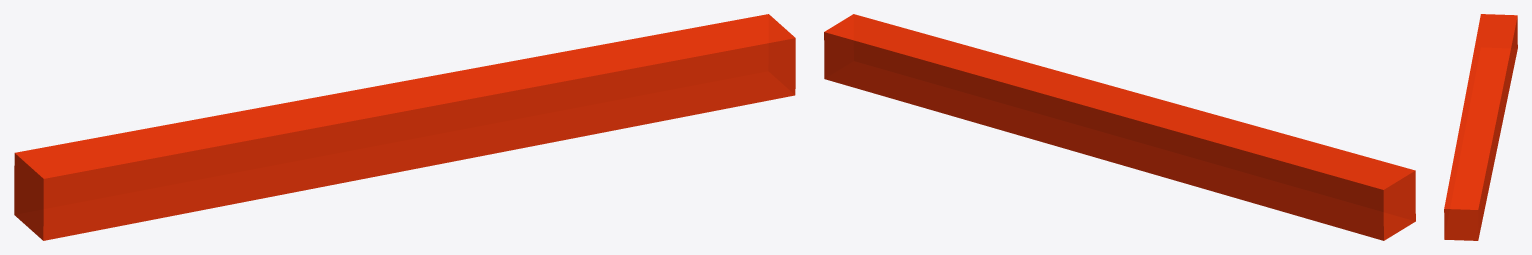
File: Event_421556567_EErechit_39.fbx
The picture shows the model from 3 angles, left to right: view 1: azimuth 30°, elevation 25°; view 2: azimuth 150°, elevation 25°; view 3: azimuth 270°, elevation 25°; orthographic projection. The views are drawn at different scales.
Parts seen in each view (by area): view 1: Model; view 2: Model; view 3: Model.
Part boxes in pixels (x1,y1,x2,y2): Model: (14, 14, 795, 240); Model: (824, 14, 1415, 240); Model: (1444, 14, 1517, 240).
Size of the model in its own units: 0.9594 by 0.0846 by 0.1564.
